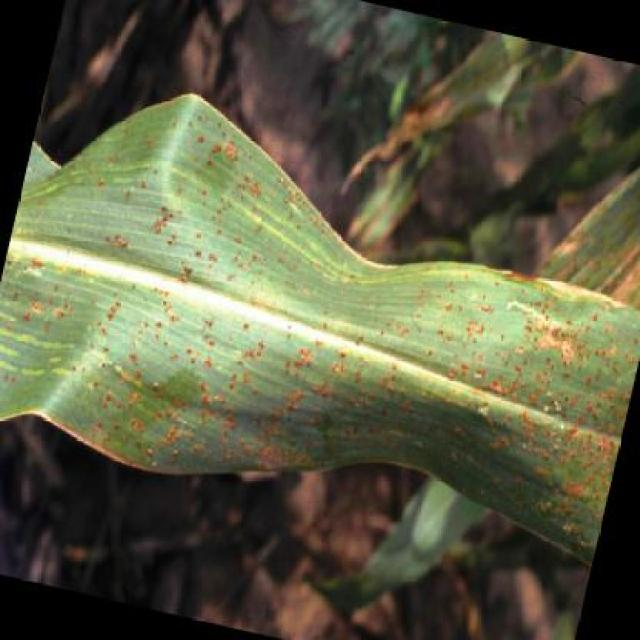Corn_Rust: (58, 102, 592, 563)
